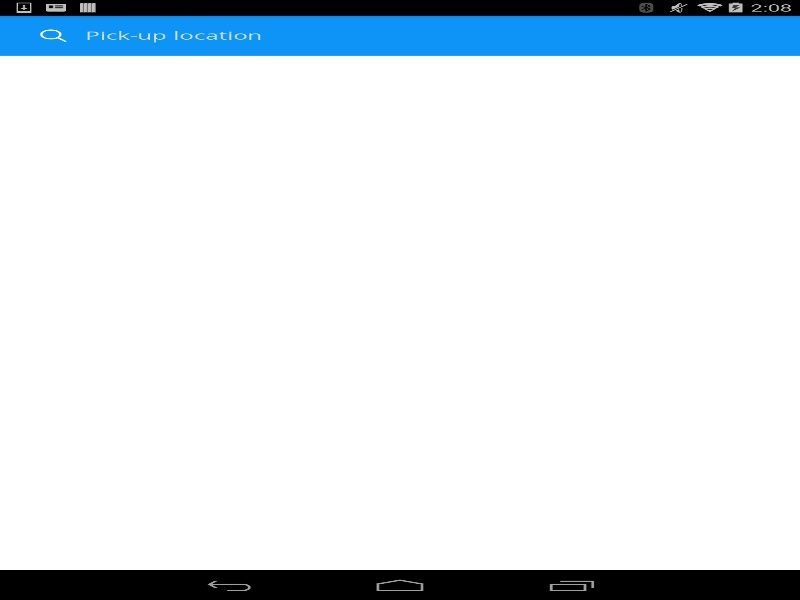Input: (74, 24, 778, 46)
